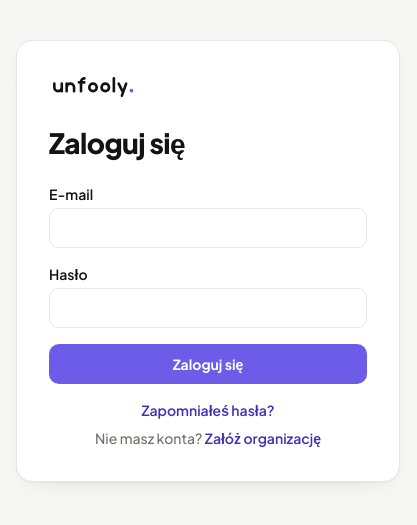
Test: LoginPage › blokuje wysyłkę przy pustych polach i nie woła API
Click the button "Zaloguj się" at (208, 364), box x1=49 y1=344 x2=367 y2=384
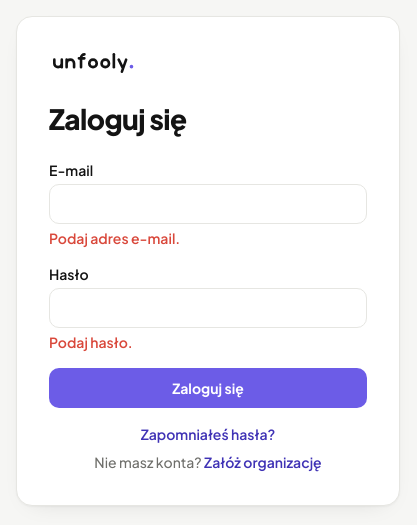
Check: the text "Podaj adres e-mail." is shown, box x1=49 y1=229 x2=180 y2=247
Check: the text "Podaj hasło." is shown, box x1=49 y1=333 x2=133 y2=351
